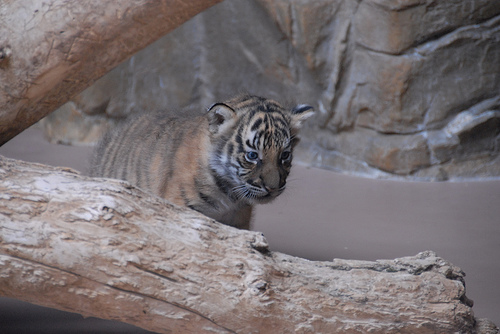Tigre: (108, 92, 313, 240)
